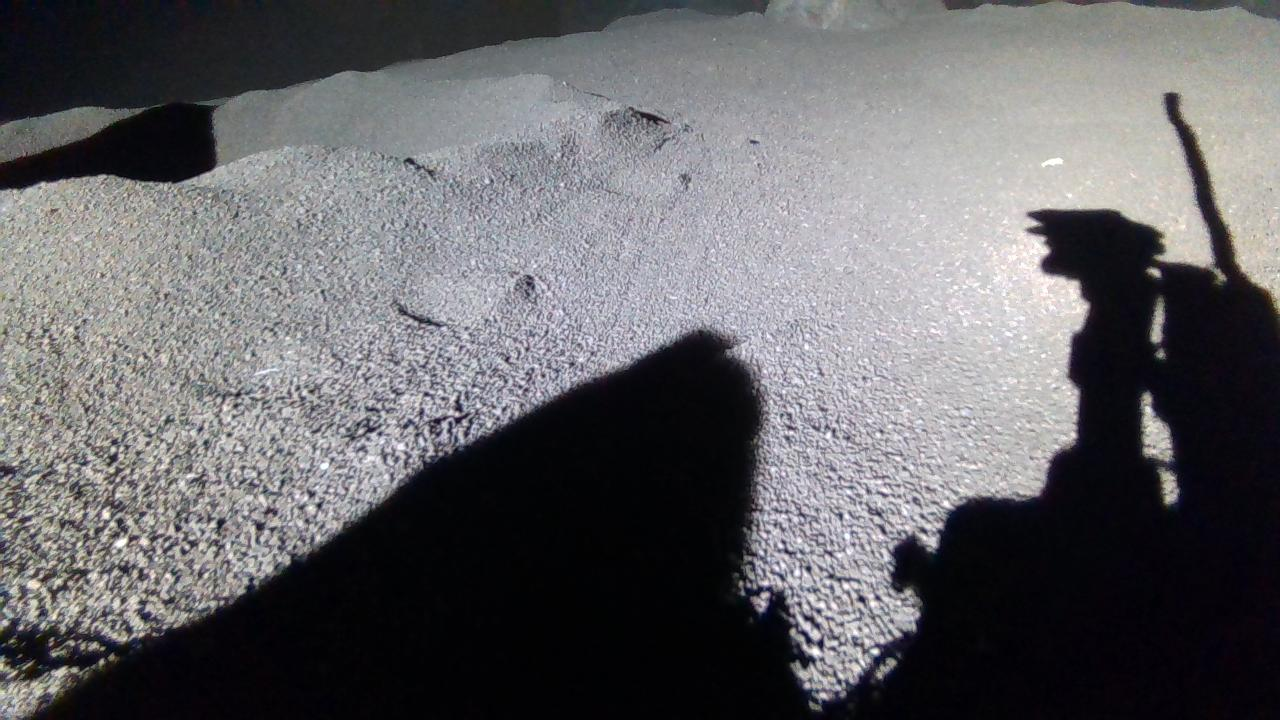rock: (768, 0, 948, 29)
